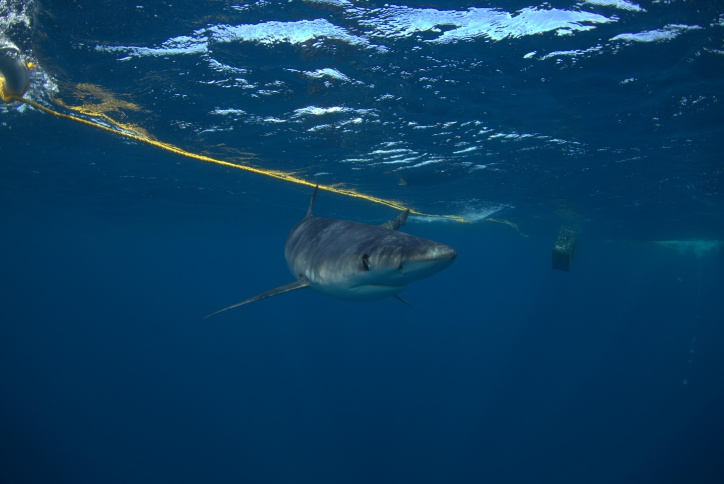Azul: (248, 172, 462, 338)
